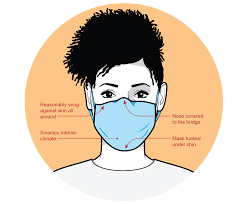FaceMask: (94, 97, 157, 151)
